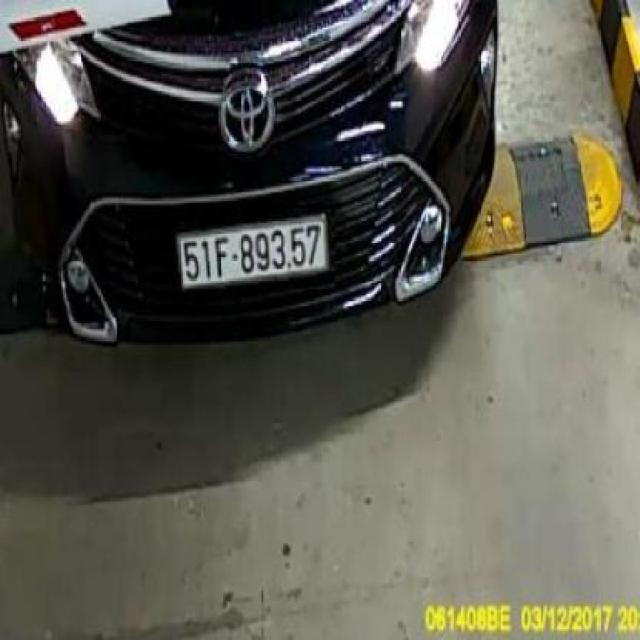number_plate: (172, 205, 336, 289)
